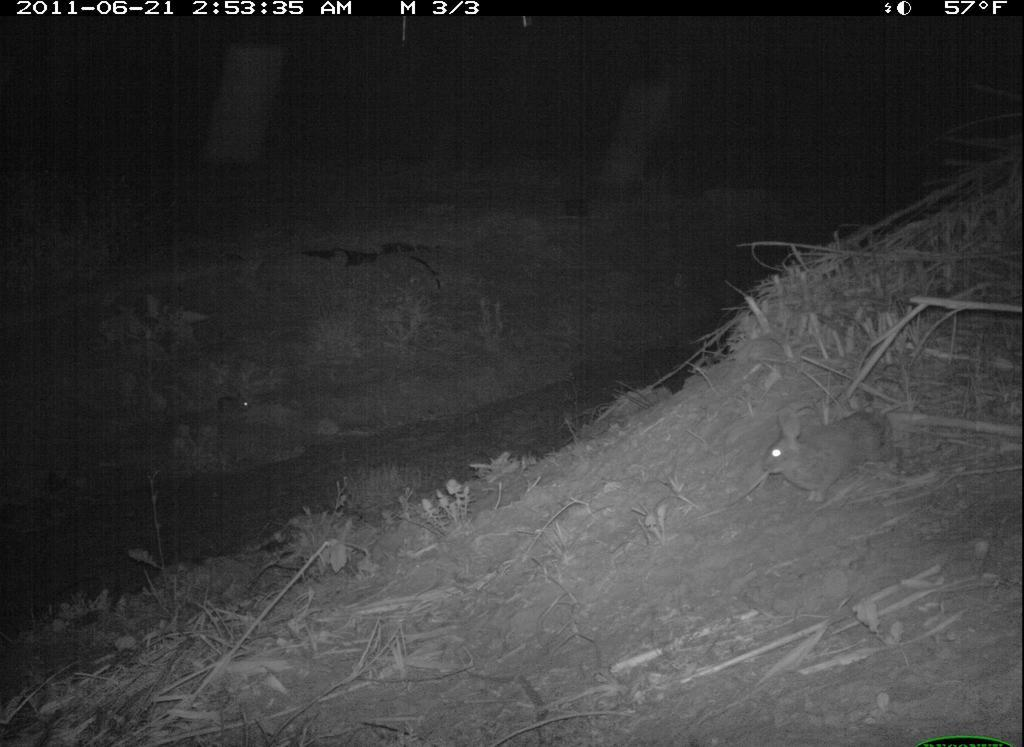rabbit: (757, 400, 893, 507)
